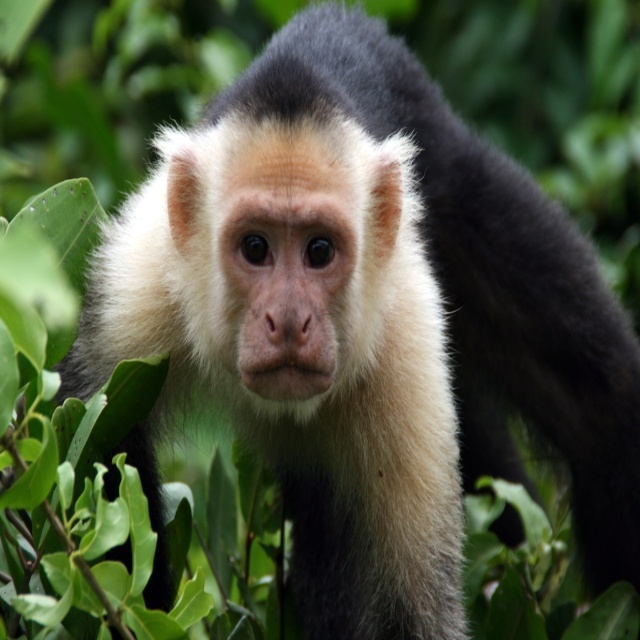Monkey: (52, 0, 640, 640)
